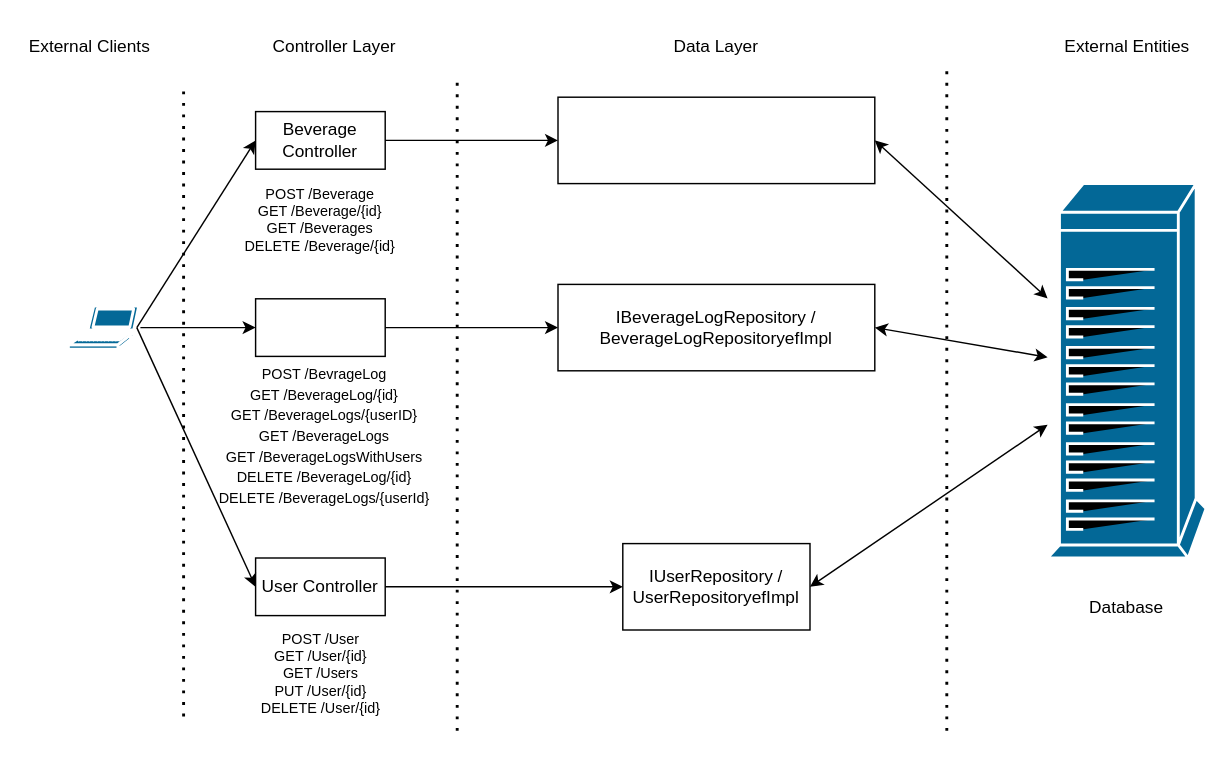
Some shapes in this 1231 by 757 pixel diagram are drawn without their labels. Each missing label, with the centre of its shape:
Beverage Log Controller: pixel 319 326
IBeverageRepository / BeverageRepositoryefImpl: pixel 716 140
